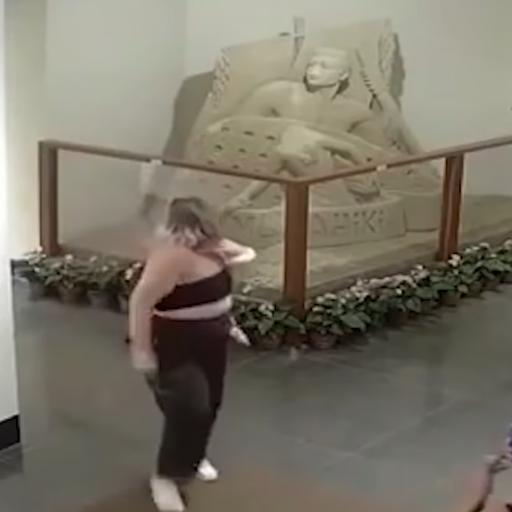Humans: (108, 166, 261, 512)
